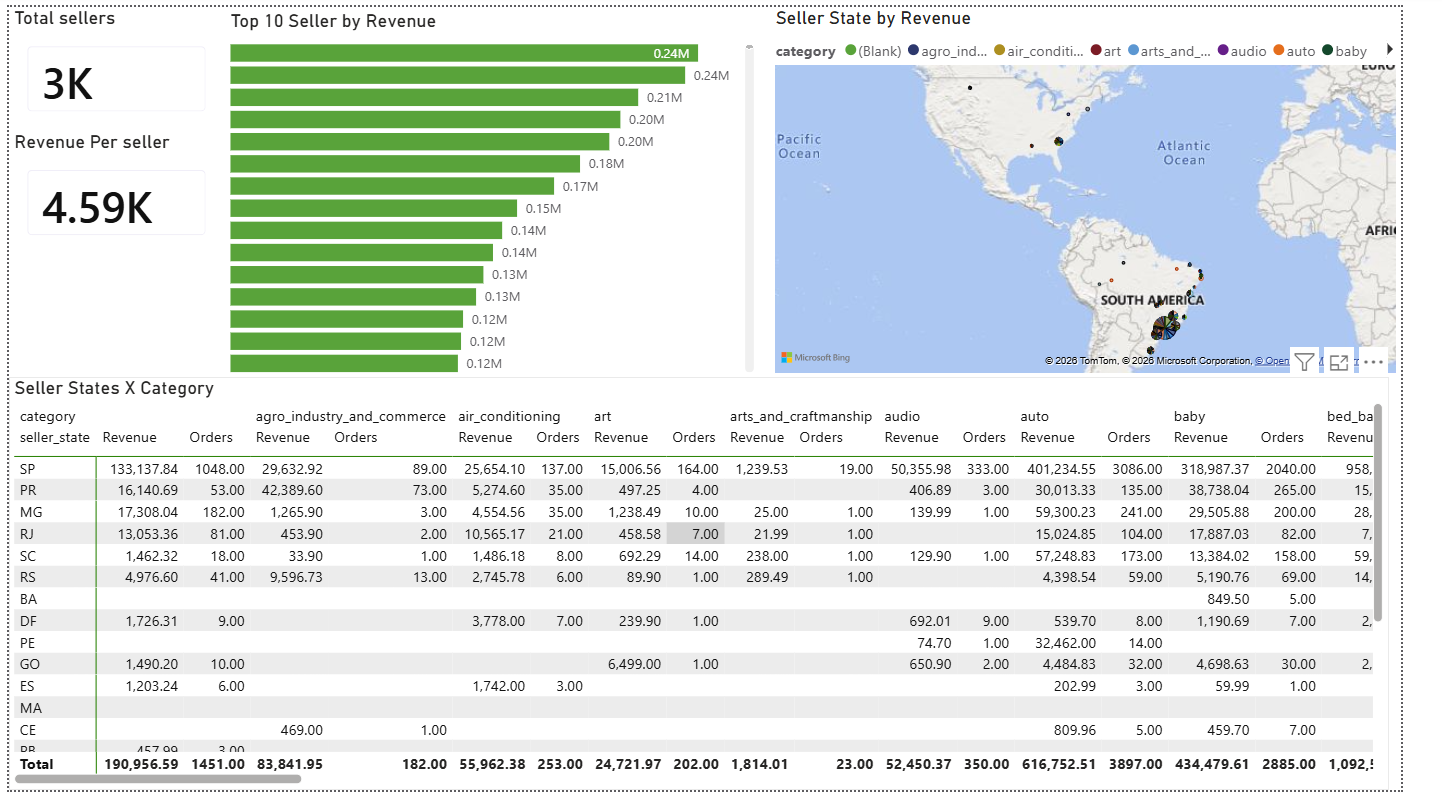

The page's visual inventory and layout, read from the dashboard file:
{"tool":"powerbi","page":{"name":"Sellers","canvas":[1280,720],"ordinal":7},"visuals":[{"type":"cardVisual","title":"Total sellers","fields":{"Data":["public bi_fact_sales.Sellers"]},"box":[0,0,199,113.9],"z":0},{"type":"cardVisual","title":"Revenue Per seller","fields":{"Data":["public bi_fact_sales.Revenue per Seller"]},"box":[0,113.9,199,113.9],"z":1000},{"type":"map","title":" Seller State by Revenue","fields":{"Series":["public bi_fact_sales.category"],"Size":["public bi_fact_sales.Revenue"],"Category":["public bi_fact_sales.seller_state"]},"box":[699.8,0,580.4,341.7],"z":2000},{"type":"barChart","title":"Top 10  Seller by Revenue","fields":{"Y":["public bi_fact_sales.Revenue"],"Category":["public bi_fact_sales.seller_id"]},"box":[199,2.7,491.3,338.9],"z":3000},{"type":"pivotTable","title":"Seller States X Category ","fields":{"Values":["public bi_fact_sales.Revenue","public bi_fact_sales.Orders"],"Columns":["public bi_fact_sales.category"],"Rows":["public bi_fact_sales.seller_state"]},"box":[0,340.7,1268.5,379.1],"z":4000}]}

Visuals, with their boxes in screenshot pixels (x1, y1, x2, y2), scaled from the page's 1280x720 canvas onto the 1442x802 screenshot:
"Total sellers" cardVisual: Rect(0, 0, 224, 127)
"Revenue Per seller" cardVisual: Rect(0, 127, 224, 254)
" Seller State by Revenue" map: Rect(788, 0, 1441, 381)
"Top 10  Seller by Revenue" barChart: Rect(224, 3, 778, 381)
"Seller States X Category " pivotTable: Rect(0, 380, 1429, 801)
